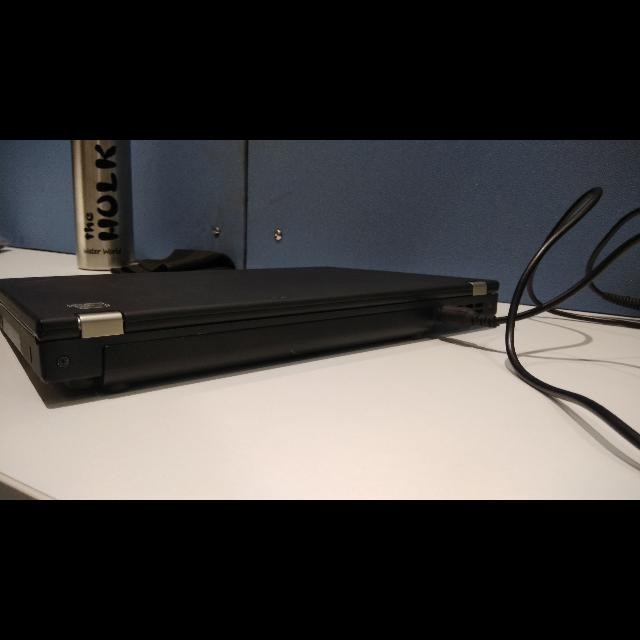Laptop: (2, 261, 506, 409)
